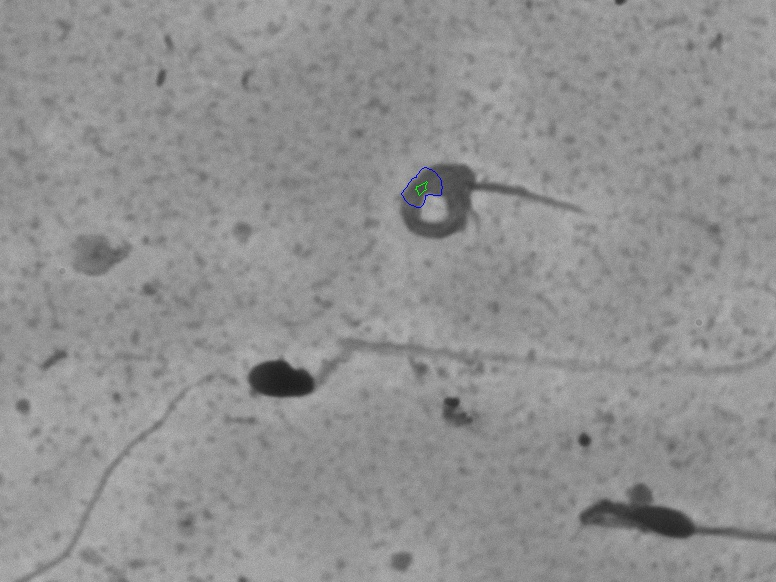Abnormal: (232, 273, 773, 455), (534, 465, 767, 567)
